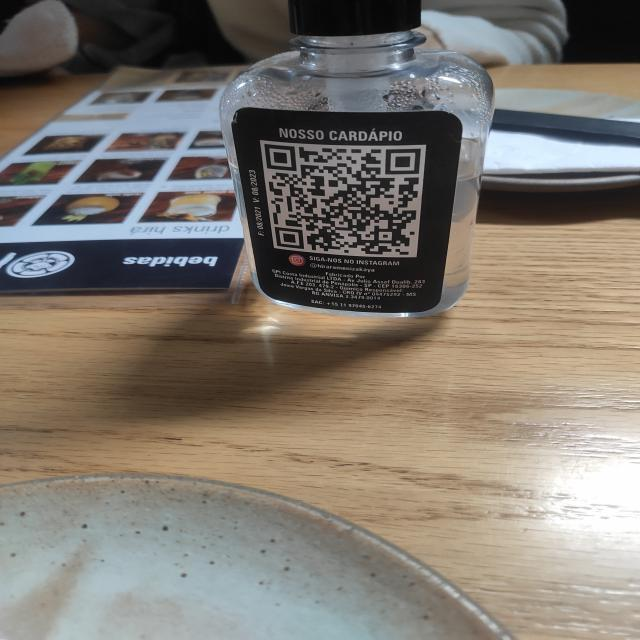qr_code: (264, 144, 420, 256)
